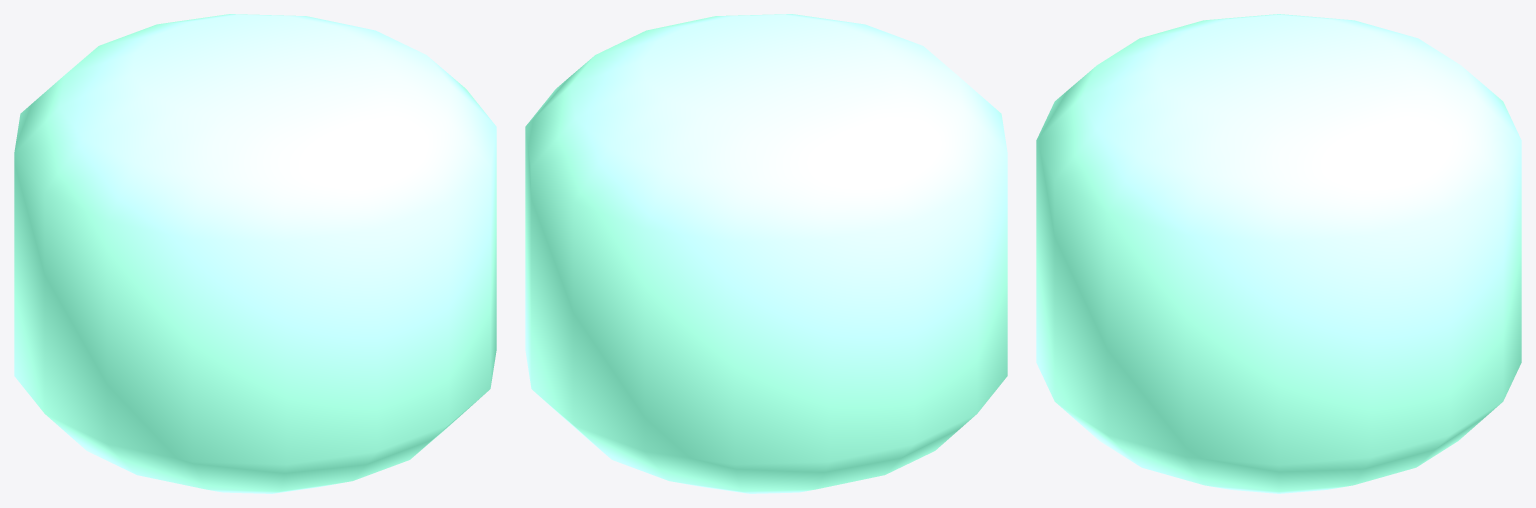
The model's file is underthesea.fbx.
3 renders of one model, left to right at view 1: azimuth 30°, elevation 25°; view 2: azimuth 150°, elevation 25°; view 3: azimuth 270°, elevation 25°, orthographic.
Parts seen in each view (by area): view 1: Cylinder.024; view 2: Cylinder.024; view 3: Cylinder.024.
Boxes of the visible parts, x1,y1,x2,y2 form: Cylinder.024: (14,14,496,493); Cylinder.024: (525,14,1007,493); Cylinder.024: (1036,14,1521,493).
Bounding box in the file's own units: 60243 × 51173 × 60243.
